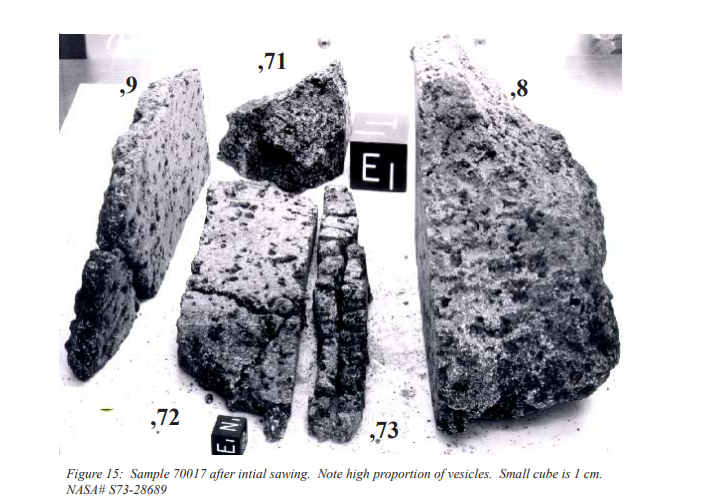Basalt: (401, 53, 636, 428), (204, 87, 391, 458), (109, 70, 219, 414)
